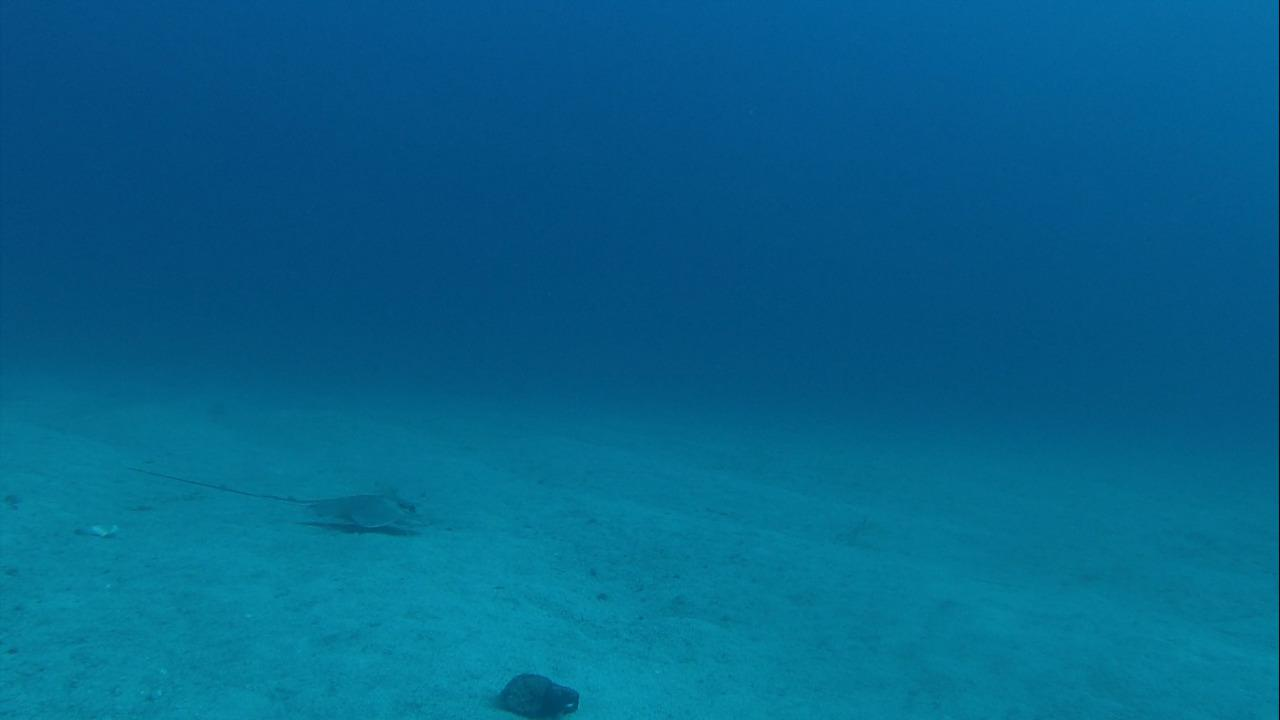myliobatis: (113, 460, 433, 545)
